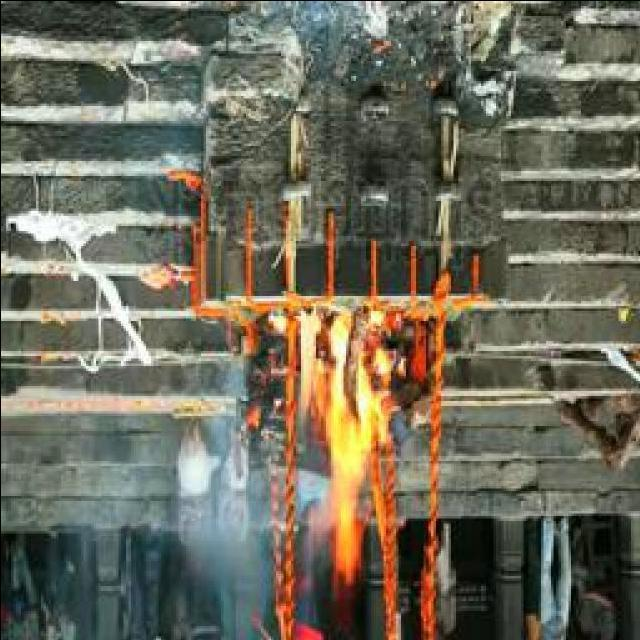Fire: (286, 314, 396, 580)
